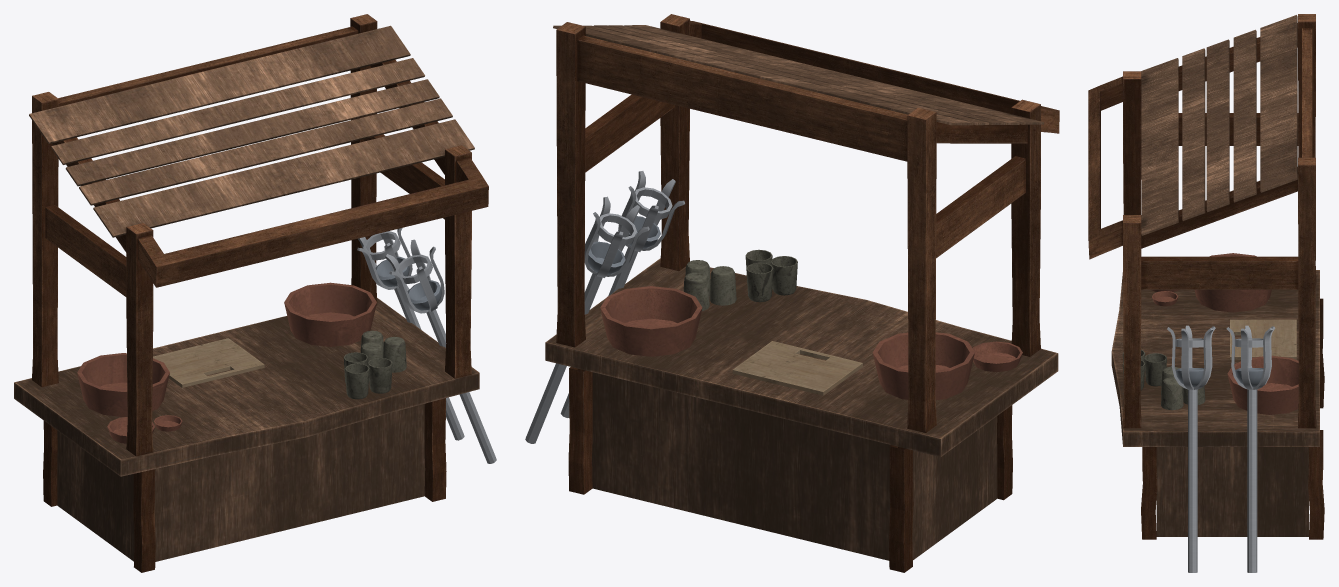
Rendered from medieval_market_stall_asset_44.obj.
3 renders of one model, left to right at view 1: azimuth 30°, elevation 25°; view 2: azimuth 150°, elevation 25°; view 3: azimuth 270°, elevation 25°, orthographic. The views are drawn at different scales.
Parts seen in each view (by area): view 1: obj2, obj3; view 2: obj2, obj3; view 3: obj2, obj3.
Boxes of the visible parts, x1,y1,x2,y2 form: obj2: (14, 14, 488, 572); obj3: (77, 228, 496, 463); obj2: (545, 14, 1059, 572); obj3: (525, 171, 1022, 443); obj2: (1088, 14, 1324, 539); obj3: (1122, 253, 1298, 572).
Size of what is drawn, in the model's own units: 314 by 301 by 168.
2 materials, 2 textured.
